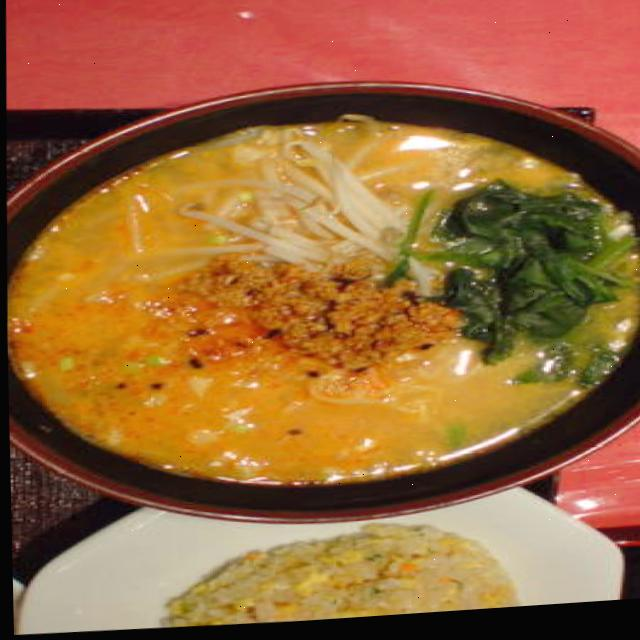面条主食: (3, 112, 640, 492)
